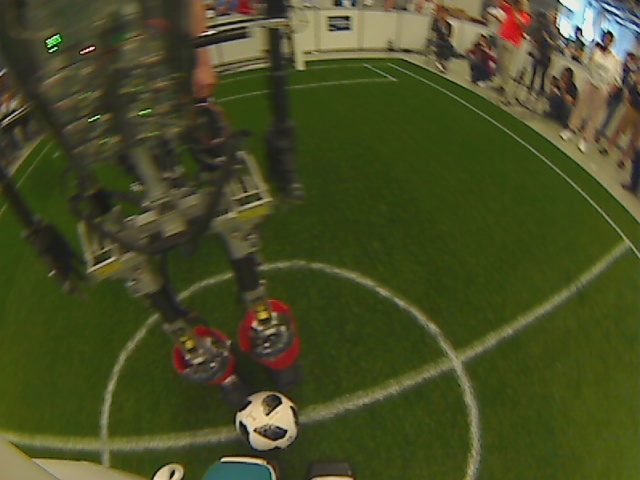ball: (234, 389, 301, 452)
